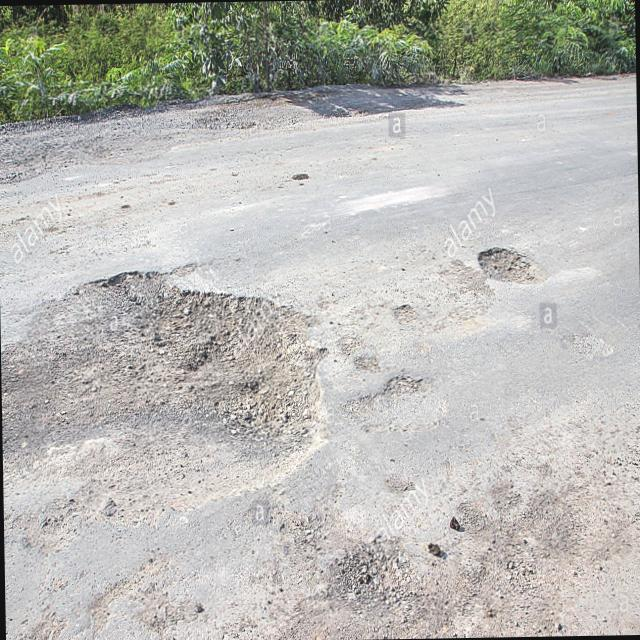bad-road: (1, 264, 334, 486), (322, 535, 411, 638), (479, 244, 537, 281)
